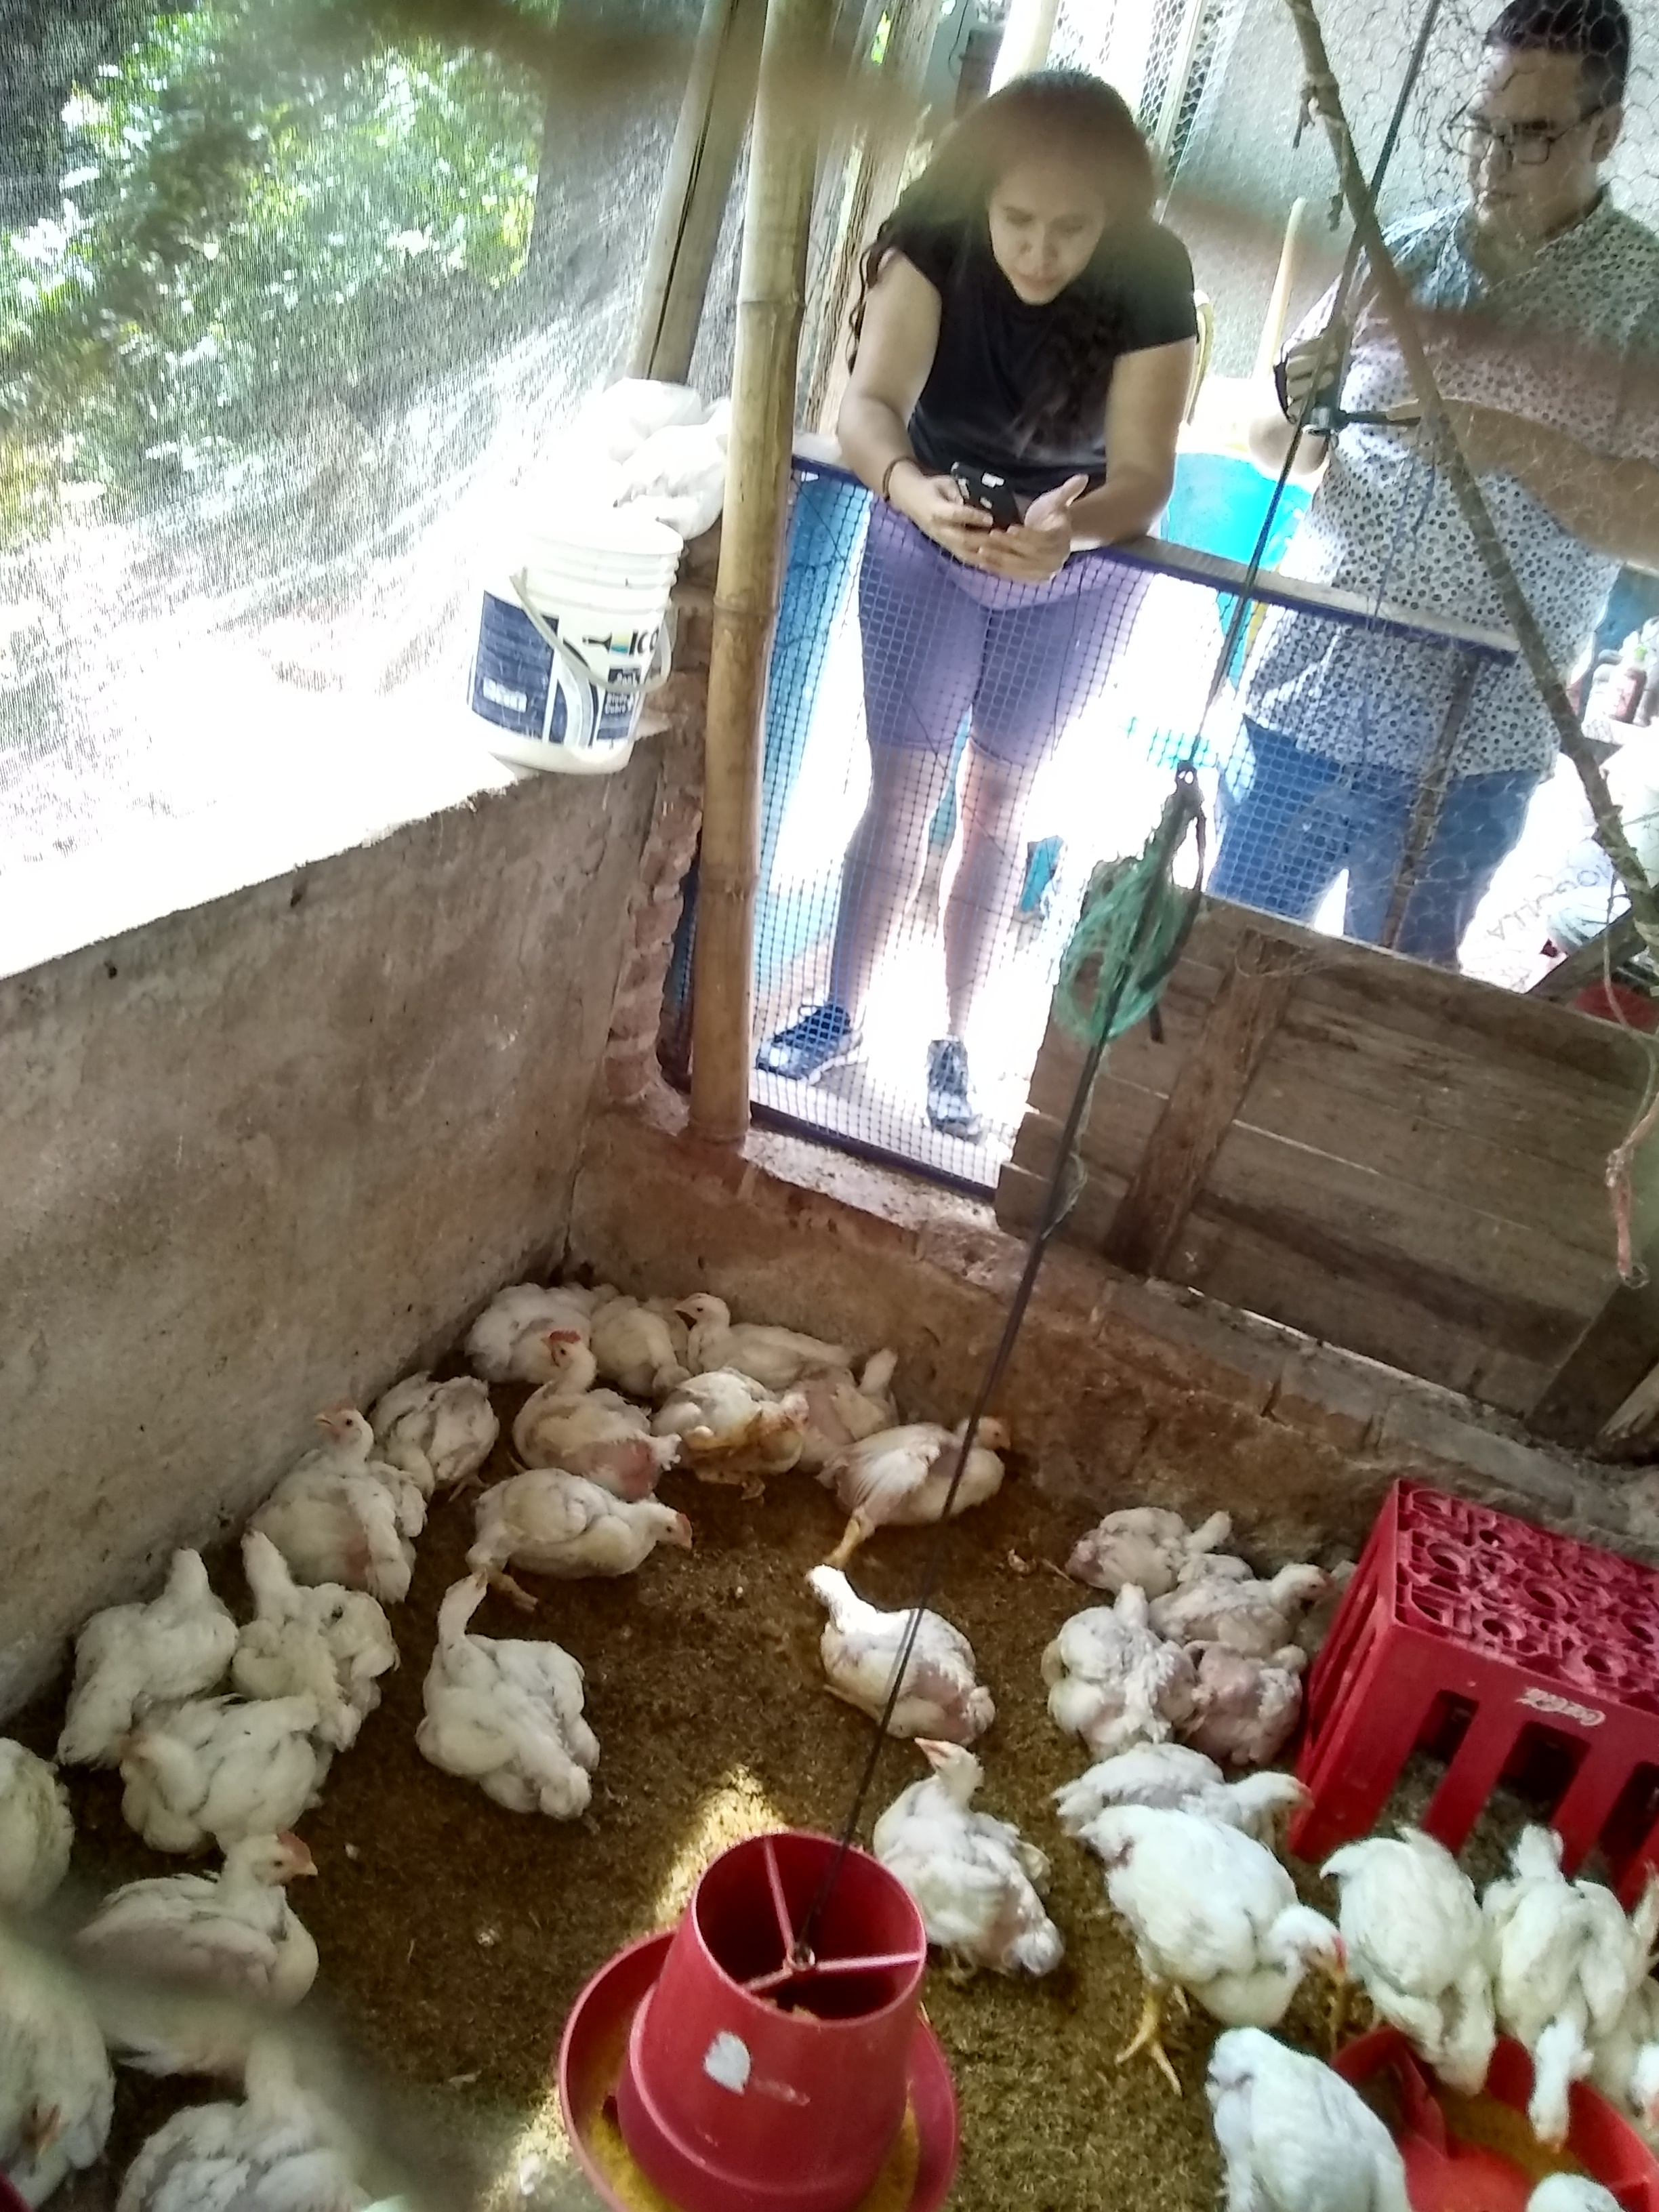Pollos: (1091, 1806, 1347, 2026), (1493, 1834, 1628, 2155), (1345, 1832, 1492, 2095), (432, 1571, 589, 1808), (894, 1733, 1030, 1970), (802, 1559, 993, 1714), (85, 1533, 235, 1712), (234, 1519, 354, 1691), (1056, 1581, 1183, 1735), (518, 1470, 699, 1573), (185, 1827, 324, 1958), (295, 1400, 401, 1569), (850, 1414, 1014, 1510), (521, 1324, 636, 1458), (680, 1372, 812, 1479), (390, 1379, 497, 1486), (1063, 1501, 1241, 1564), (676, 1285, 809, 1366), (1199, 1637, 1304, 1728), (1202, 1566, 1324, 1641), (119, 1728, 227, 1811), (817, 1346, 910, 1430), (1208, 1759, 1312, 1829)
